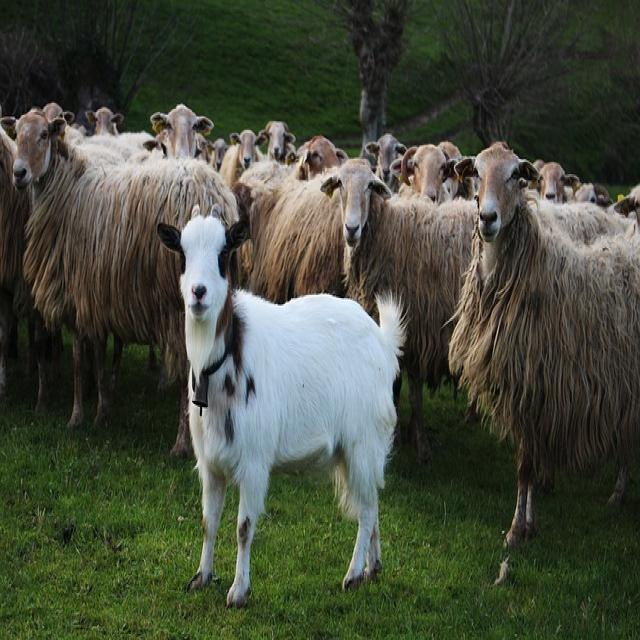sheep: (155, 201, 408, 608), (444, 139, 639, 584), (2, 101, 241, 458), (319, 154, 480, 464)
